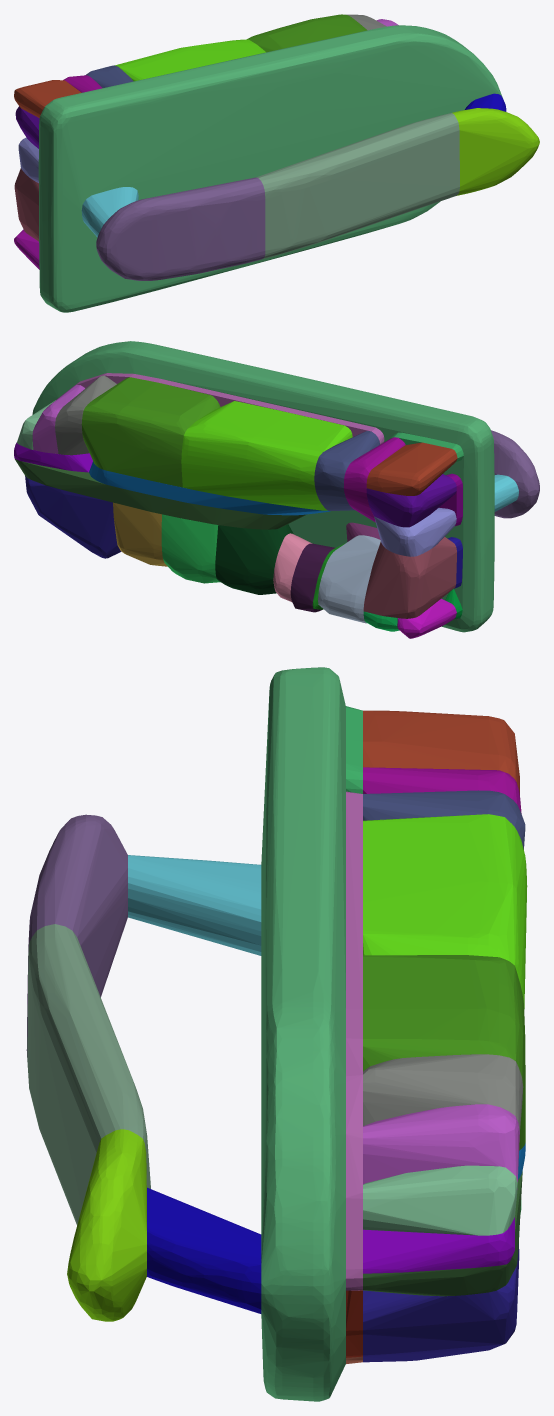
File: coacd_collision.obj
The picture shows the model from 3 angles, top to bottom: view 1: azimuth 30°, elevation 25°; view 2: azimuth 150°, elevation 25°; view 3: azimuth 270°, elevation 25°; orthographic projection. The views are drawn at different scales.
Parts seen in each view (by area): view 1: geometry_3, geometry_0, geometry_1, geometry_4, geometry_17, geometry_30, geometry_2, geometry_31, geometry_13, geometry_12, geometry_16, geometry_27 (+3 smaller); view 2: geometry_3, geometry_17, geometry_30, geometry_13, geometry_19, geometry_18, geometry_25, geometry_6, geometry_31, geometry_36, geometry_29, geometry_16 (+18 smaller); view 3: geometry_3, geometry_17, geometry_0, geometry_30, geometry_4, geometry_1, geometry_2, geometry_18, geometry_5, geometry_39, geometry_38, geometry_35 (+8 smaller).
Boxes of the visible parts, bbox=[...] form: geometry_3: bbox=[38, 25, 502, 312]; geometry_0: bbox=[256, 113, 459, 258]; geometry_1: bbox=[96, 177, 265, 280]; geometry_4: bbox=[452, 108, 539, 195]; geometry_17: bbox=[115, 39, 265, 81]; geometry_30: bbox=[247, 14, 367, 52]; geometry_2: bbox=[81, 187, 138, 237]; geometry_31: bbox=[14, 80, 81, 117]; geometry_13: bbox=[14, 168, 38, 241]; geometry_12: bbox=[18, 137, 38, 182]; geometry_16: bbox=[85, 65, 133, 87]; geometry_27: bbox=[15, 106, 39, 148]; geometry_3: bbox=[32, 341, 494, 632]; geometry_17: bbox=[181, 401, 352, 510]; geometry_30: bbox=[81, 377, 220, 487]; geometry_13: bbox=[363, 537, 456, 618]; geometry_19: bbox=[15, 459, 306, 529]; geometry_18: bbox=[25, 476, 121, 558]; geometry_25: bbox=[215, 524, 293, 594]; geometry_6: bbox=[318, 535, 380, 623]; geometry_31: bbox=[366, 442, 457, 495]; geometry_36: bbox=[161, 514, 220, 583]; geometry_29: bbox=[89, 461, 330, 515]; geometry_16: bbox=[314, 431, 379, 510]; geometry_3: bbox=[261, 667, 345, 1401]; geometry_17: bbox=[363, 814, 527, 1008]; geometry_0: bbox=[27, 924, 150, 1225]; geometry_30: bbox=[363, 955, 525, 1150]; geometry_4: bbox=[67, 1129, 146, 1321]; geometry_1: bbox=[26, 814, 127, 1057]; geometry_2: bbox=[128, 855, 261, 955]; geometry_18: bbox=[363, 1244, 519, 1362]; geometry_5: bbox=[147, 1187, 261, 1313]; geometry_39: bbox=[363, 1165, 517, 1235]; geometry_38: bbox=[363, 1104, 519, 1189]; geometry_35: bbox=[363, 1054, 523, 1131].
Bounding box in the file's own units: 147 × 64.53 × 70.52.
